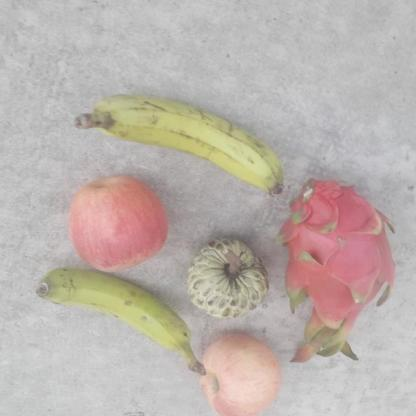annona: (186, 236, 271, 320)
apple: (66, 176, 168, 272), (198, 332, 284, 416)
banana: (73, 94, 286, 197), (34, 269, 207, 375)
pitaya: (274, 177, 398, 362)
